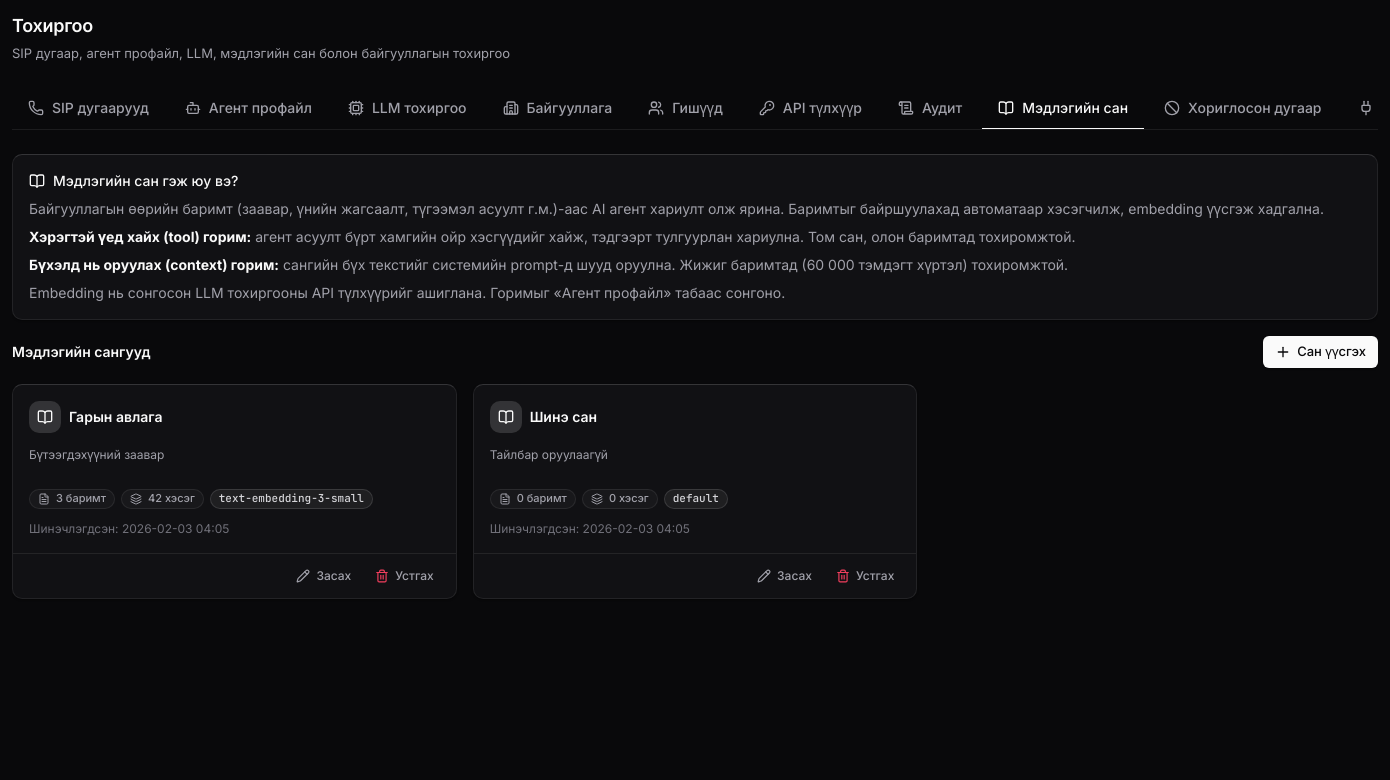
KnowledgeTab › opens the detail route when a card is clicked
What coordinates should you click on to do the following:
click the element with test id "kb-card-kb1"
I would click on:
 (234, 491)
Its box is 12,384 -> 457,598.
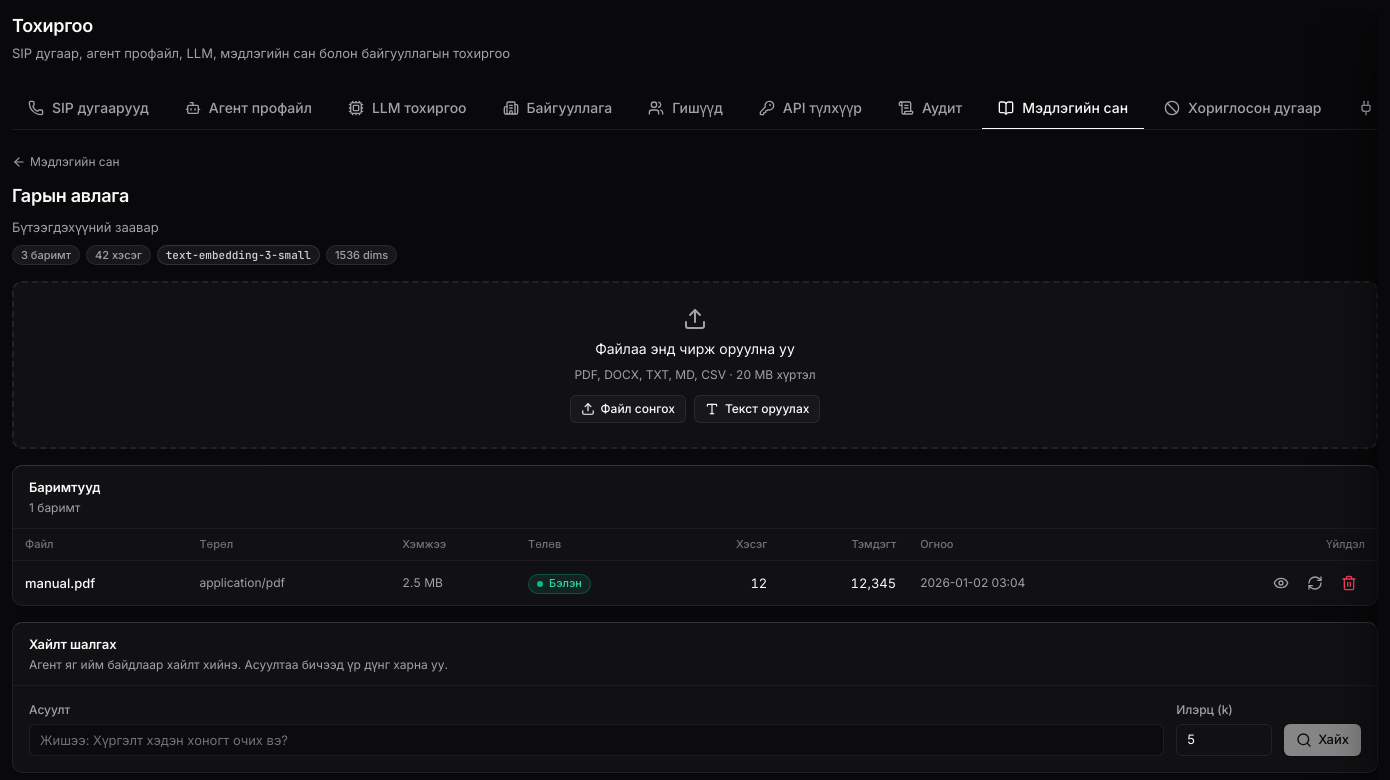
Expected: the heading "Гарын авлага" is shown, 12,185 -> 129,206
Expected: the text "manual.pdf" is shown, 13,561 -> 187,605
